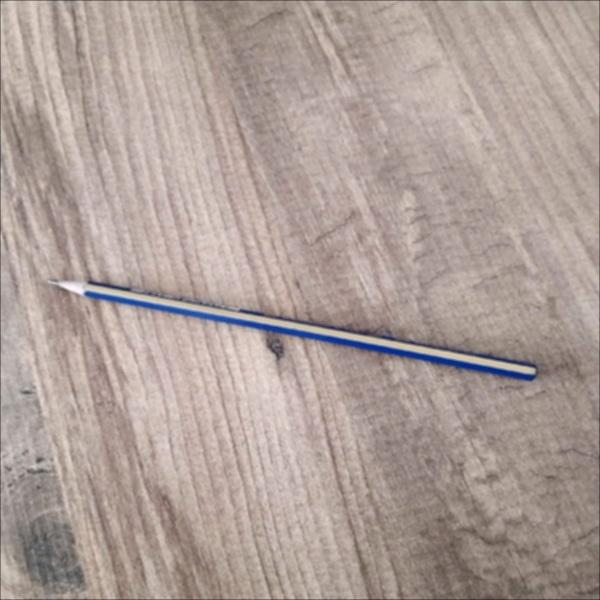pencil: (44, 269, 540, 392)
